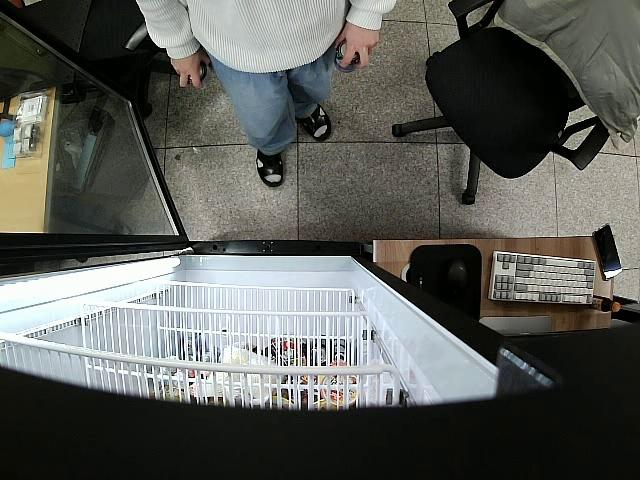00_hand: (335, 21, 380, 72), (170, 52, 209, 90)
14_welchsGrape: (336, 43, 361, 78), (185, 61, 209, 84)
